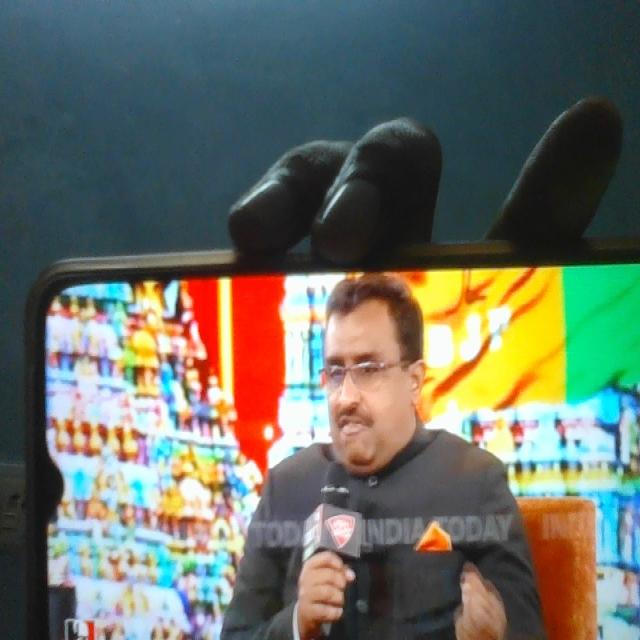fake: (302, 253, 424, 484)
